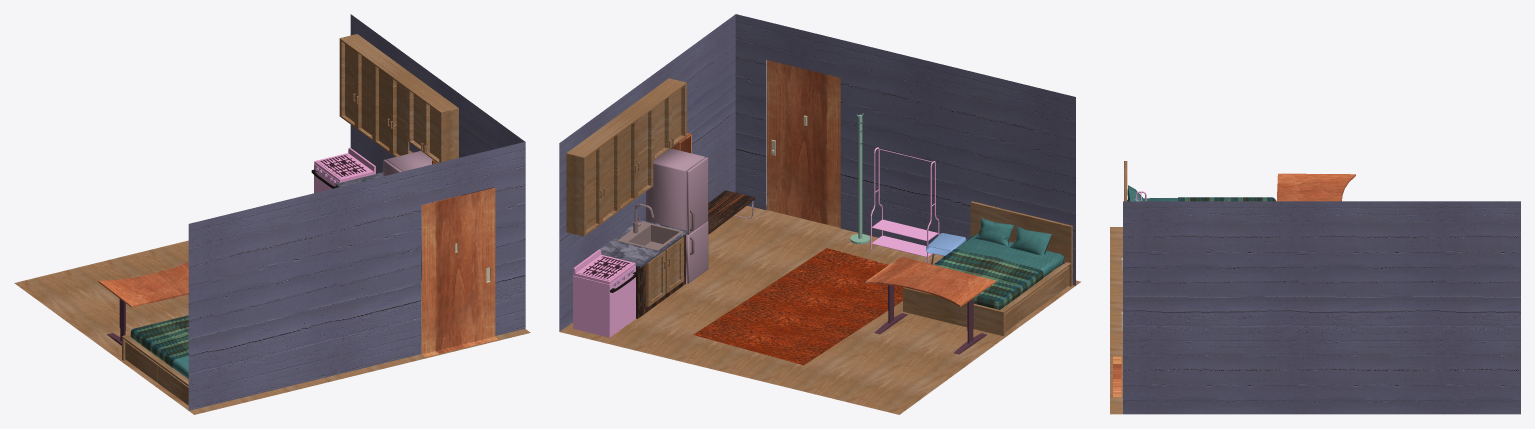
File: Apartment_Maquette-transformed.glb
The picture shows the model from 3 angles, left to right: view 1: azimuth 30°, elevation 25°; view 2: azimuth 150°, elevation 25°; view 3: azimuth 270°, elevation 25°; orthographic projection. The views are drawn at different scales.
Visible parts, largest first — view 1: Apartment_Maquette; view 2: Apartment_Maquette; view 3: Apartment_Maquette.
Part boxes in pixels (x1,y1,x2,y2): Apartment_Maquette: (14,14,530,414); Apartment_Maquette: (559,14,1080,414); Apartment_Maquette: (1110,161,1520,414).
Size of the model in its own units: 5.94 by 3.16 by 5.51.
11 materials, 11 textured.
